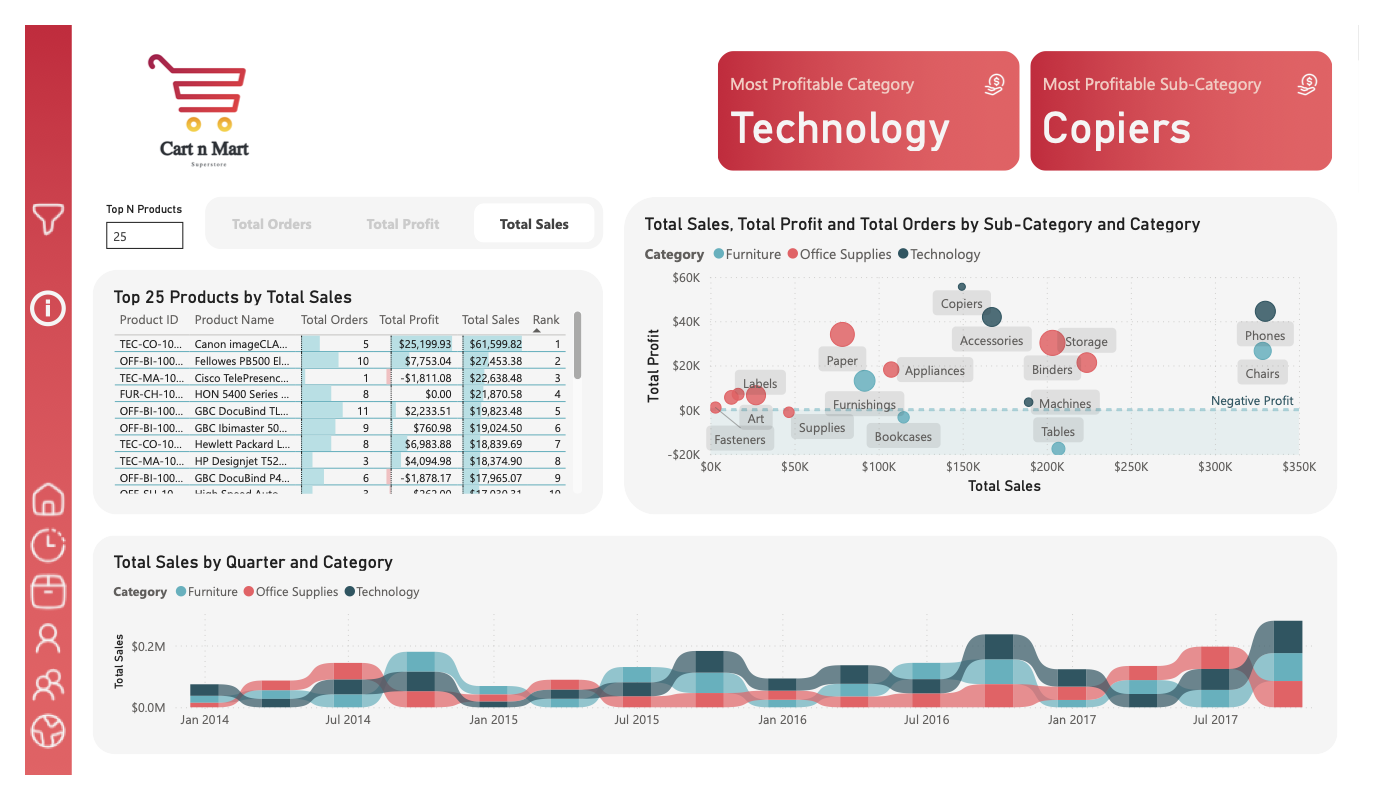

This screenshot's page, from the dashboard's own definition file:
{"tool":"powerbi","page":{"name":"Products","canvas":[1280,720],"ordinal":2},"visuals":[{"type":"cardVisual","title":"NavBar","fields":{"Data":["Measures Table.Dummy Title"]},"box":[0,0,45,720],"z":0,"group":"g6"},{"type":"slicer","title":"Top N Slicer","fields":{"Values":["Top N Products.Top N Products"]},"box":[65,165,175,59],"z":0},{"type":"shape","title":"BG","box":[575,165,685,305],"z":0,"group":"g4"},{"type":"slicer","fields":{"Values":["KPI Measures.KPI Measures"]},"box":[358,184,12,12],"z":0,"group":"g3"},{"type":"shape","title":"BG","box":[65,235,490,235],"z":0,"group":"g5"},{"type":"actionButton","title":"Home Button","box":[0,432.6,44.6,44.6],"z":0,"group":"g1"},{"type":"shape","title":"BG","box":[65,490,1195,210],"z":0,"group":"g2"},{"type":"image","box":[65.6,20,214,125],"z":1000},{"type":"bookmarkNavigator","title":"Slicer selector","box":[173,165,382,50],"z":1000,"group":"g3"},{"type":"scatterChart","fields":{"Category":["DimProducts.Sub-Category"],"Series":["DimProducts.Category"],"Size":["Measures Table.Total Orders"],"X":["Measures Table.Total Sales"],"Y":["Measures Table.Total Profit"]},"box":[590,180,655,275],"z":1000,"group":"g4"},{"type":"tableEx","fields":{"Values":["DimProducts.Product ID","DimProducts.Product Name","Measures Table.Total Orders","Measures Table.Total Profit","Measures Table.Total Sales","Measures Table.Products Top N by Selected Measure"]},"box":[80,250,460,205],"z":1000,"group":"g5"},{"type":"group","id":"g1","title":"NavBar Buttons","box":[0,432.6,44.6,267.4],"z":1000,"group":"g6"},{"type":"actionButton","title":"Time Button","box":[0,477.2,44.6,44.6],"z":1000,"group":"g1"},{"type":"ribbonChart","fields":{"Y":["Measures Table.Total Profit"],"Category":["DimCalendar.Start of quarter"],"Series":["DimProducts.Category Hierarchy.Category"]},"box":[80,505,1165,180],"z":1000,"group":"g2"},{"type":"cardVisual","title":"KPIs","fields":{"Data":["Min(DimProducts.Category)"]},"box":[660,20,300,125],"z":2000},{"type":"actionButton","title":"Filter Button","box":[0,164.1,44.6,44.6],"z":2000,"group":"g6"},{"type":"actionButton","title":"Products Button","box":[0,521.7,44.6,44.6],"z":2000,"group":"g1"},{"type":"cardVisual","title":"KPIs","fields":{"Data":["Min(DimProducts.Sub-Category)"]},"box":[960,20,300,125],"z":3000},{"type":"actionButton","title":"Customers Button","box":[0,566.3,44.6,44.6],"z":3000,"group":"g1"},{"type":"group","id":"g2","title":"KPI by Start of quarter and Category","box":[65,490,1195,210],"z":4000},{"type":"actionButton","title":"Customers RFM Button","box":[0,610.9,44.6,44.6],"z":4000,"group":"g1"},{"type":"actionButton","title":"Territory Button","box":[0,655.4,44.6,44.6],"z":5000,"group":"g1"},{"type":"group","id":"g3","title":"Slicer","box":[173,165,382,50],"z":6000},{"type":"group","id":"g4","title":"Sales, Profit and Orders by Sub-Category","box":[575,165,685,305],"z":7000},{"type":"group","id":"g5","title":"Top N Products by Selected Measure","box":[65,235,490,235],"z":8000},{"type":"group","id":"g6","title":"Navbar home","box":[0,0,45.7,719.6],"z":9000},{"type":"actionButton","title":"Slicers warning","box":[0,250,44,44],"z":9500}]}

Visuals, with their boxes in screenshot pixels (x1, y1, x2, y2), scaled from the page's 1280x720 canvas onto the 1383x800 screenshot:
"NavBar" cardVisual: (left=0, top=0, right=49, bottom=799)
"Top N Slicer" slicer: (left=70, top=183, right=259, bottom=249)
"BG" shape: (left=621, top=183, right=1361, bottom=522)
slicer - KPI Measures.KPI Measures: (left=387, top=204, right=400, bottom=218)
"BG" shape: (left=70, top=261, right=600, bottom=522)
"Home Button" actionButton: (left=0, top=481, right=48, bottom=530)
"BG" shape: (left=70, top=544, right=1361, bottom=778)
image: (left=71, top=22, right=302, bottom=161)
"Slicer selector" bookmarkNavigator: (left=187, top=183, right=600, bottom=239)
scatterChart - DimProducts.Sub-Category x DimProducts.Category: (left=637, top=200, right=1345, bottom=506)
tableEx - DimProducts.Product ID x DimProducts.Product Name: (left=86, top=278, right=583, bottom=506)
"NavBar Buttons" group: (left=0, top=481, right=48, bottom=778)
"Time Button" actionButton: (left=0, top=530, right=48, bottom=580)
ribbonChart - Measures Table.Total Profit x DimCalendar.Start of quarter: (left=86, top=561, right=1345, bottom=761)
"KPIs" cardVisual: (left=713, top=22, right=1037, bottom=161)
"Filter Button" actionButton: (left=0, top=182, right=48, bottom=232)
"Products Button" actionButton: (left=0, top=580, right=48, bottom=629)
"KPIs" cardVisual: (left=1037, top=22, right=1361, bottom=161)
"Customers Button" actionButton: (left=0, top=629, right=48, bottom=679)
"KPI by Start of quarter and Category" group: (left=70, top=544, right=1361, bottom=778)
"Customers RFM Button" actionButton: (left=0, top=679, right=48, bottom=728)
"Territory Button" actionButton: (left=0, top=728, right=48, bottom=778)
"Slicer" group: (left=187, top=183, right=600, bottom=239)
"Sales, Profit and Orders by Sub-Category" group: (left=621, top=183, right=1361, bottom=522)
"Top N Products by Selected Measure" group: (left=70, top=261, right=600, bottom=522)
"Navbar home" group: (left=0, top=0, right=49, bottom=799)
"Slicers warning" actionButton: (left=0, top=278, right=48, bottom=327)
